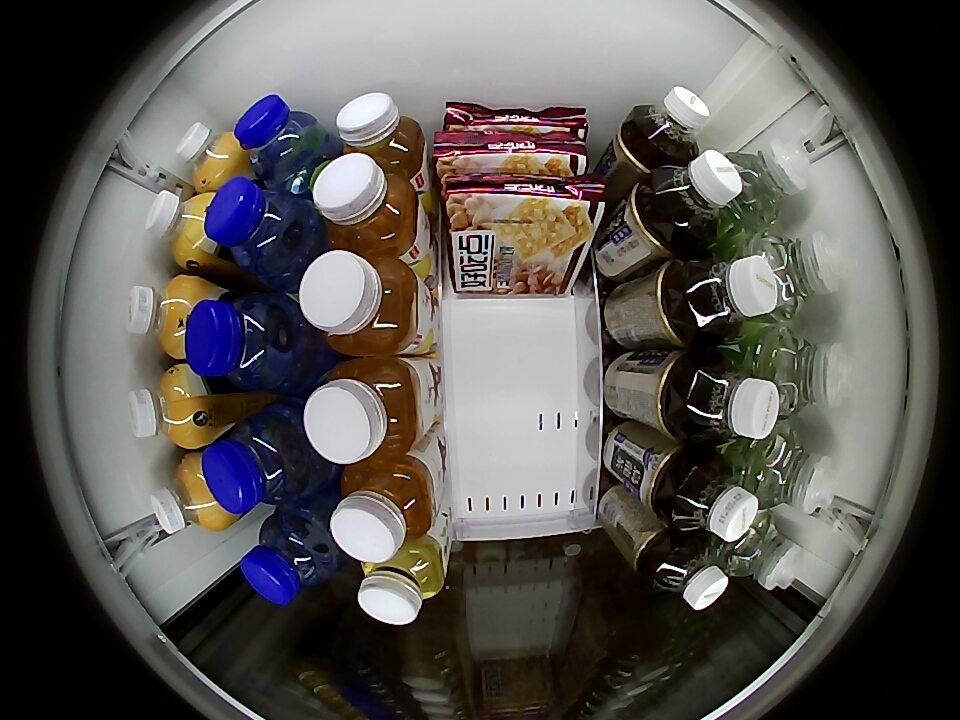asamu: (125, 275, 205, 358), (127, 366, 206, 448), (150, 455, 230, 534), (144, 189, 220, 269), (176, 123, 244, 189)
chapai: (299, 250, 421, 356), (303, 358, 422, 464), (330, 458, 436, 563), (312, 153, 422, 254), (336, 92, 425, 174)
chapai2: (357, 538, 447, 625)
haochidian: (443, 179, 602, 249), (432, 132, 590, 179), (439, 103, 590, 136)
jianjiao: (753, 230, 843, 321), (762, 328, 851, 417), (725, 140, 810, 229), (745, 429, 834, 513), (719, 511, 801, 591)
maidong: (202, 406, 313, 512), (185, 291, 301, 390), (205, 178, 314, 280), (241, 509, 339, 604), (234, 94, 325, 188)
wulongcha: (647, 150, 745, 244), (682, 252, 781, 342), (683, 353, 780, 444), (669, 454, 758, 542), (630, 86, 710, 162), (648, 536, 729, 611)
